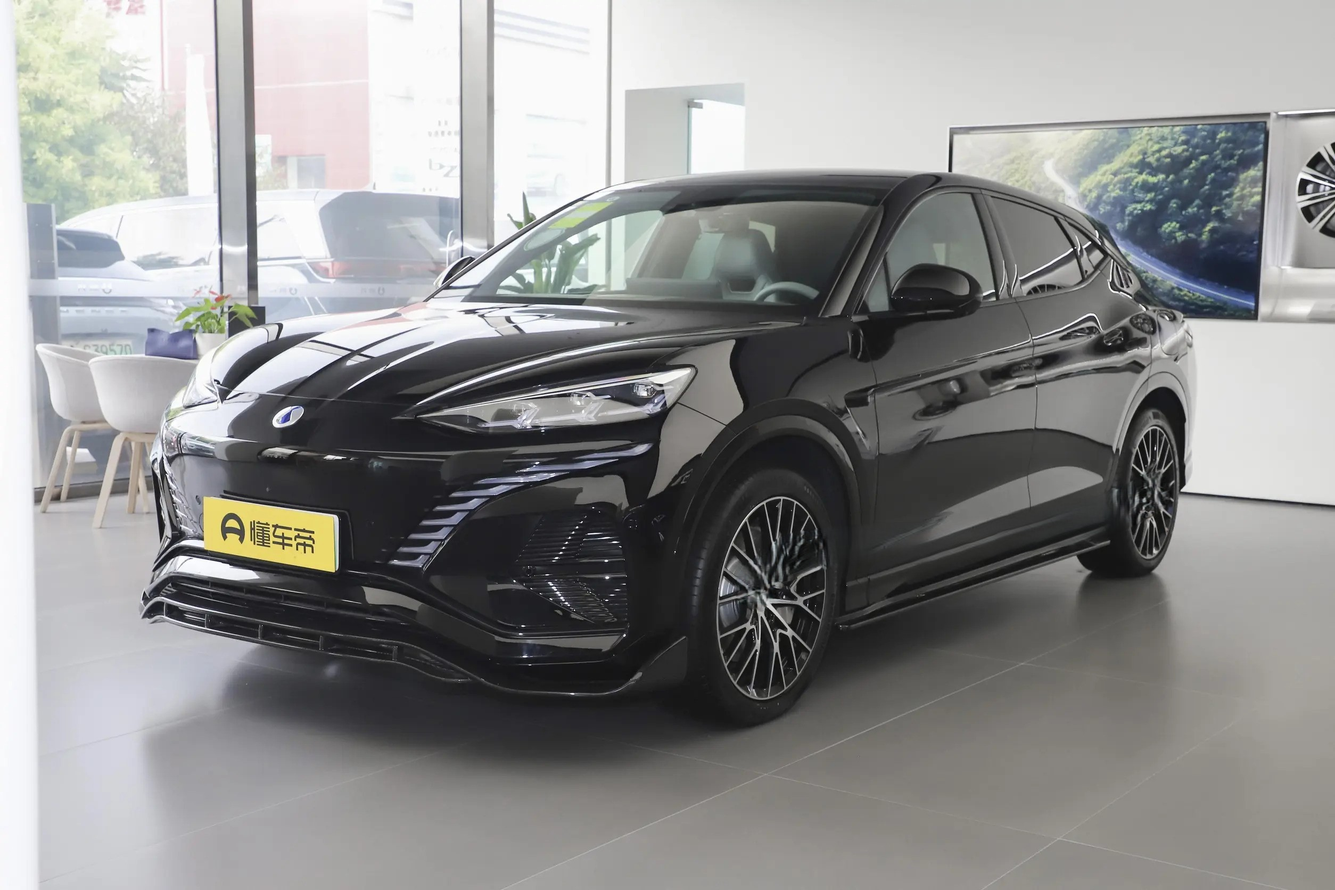DENZA: (272, 406, 303, 427)
